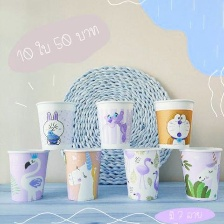paper_cup: (3, 146, 53, 204), (177, 144, 224, 204), (120, 143, 164, 204), (32, 98, 80, 153), (151, 95, 196, 153), (60, 146, 104, 203), (93, 96, 136, 151)
